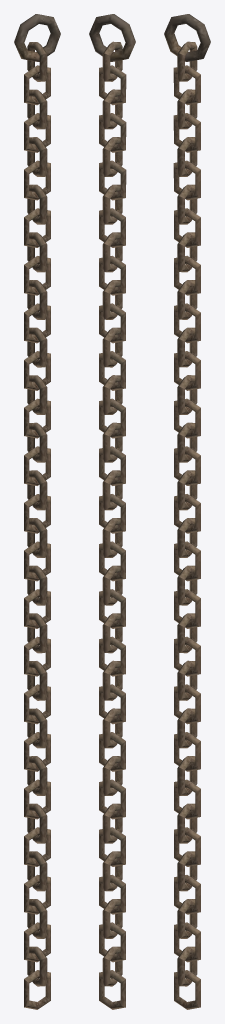
3 renders of one model, left to right at view 1: azimuth 30°, elevation 25°; view 2: azimuth 150°, elevation 25°; view 3: azimuth 330°, elevation 25°, orthographic.
Parts seen in each view (by area): view 1: SM_DR_CeilingChain_Str_6m_LOD0; view 2: SM_DR_CeilingChain_Str_6m_LOD0; view 3: SM_DR_CeilingChain_Str_6m_LOD0.
Part boxes in pixels (<box>): SM_DR_CeilingChain_Str_6m_LOD0: <box>14,14,60,1009</box>; SM_DR_CeilingChain_Str_6m_LOD0: <box>89,14,135,1009</box>; SM_DR_CeilingChain_Str_6m_LOD0: <box>164,14,210,1009</box>.
Size of the model in its own units: 0.3157 by 6.55 by 0.1864.
1 material, 1 textured.
